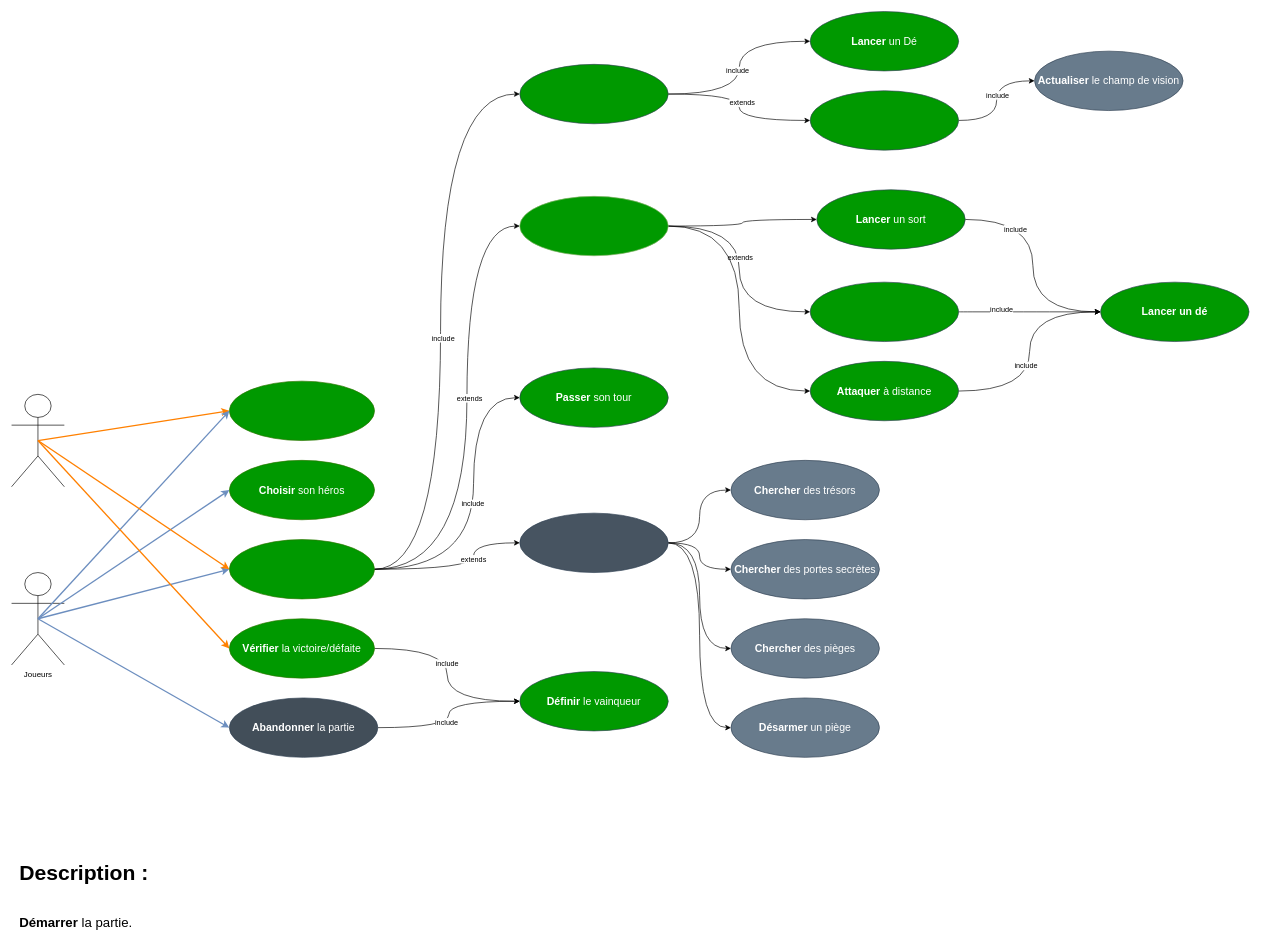
Some shapes in this 1261 by 949 pixel diagram are drawn without their labels. Here are the shapes that lost their labels. From the top down, the centre of each, then its label:
At [593,94]: "se Déplacer".
At [884,120]: "Changer de case".
At [593,226]: "Attaquer".
At [884,311]: "Attaquer en corp a corp".
At [302,410]: "Démarrer la partie".
At [37,440]: "Maître Du Jeu".
At [593,542]: "Intéragir".
At [302,569]: "Jouer un tour".
